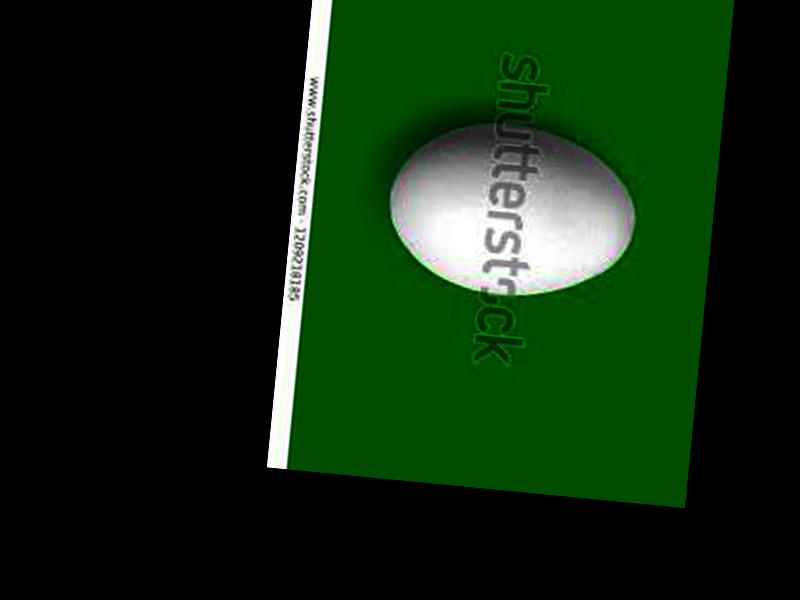Eggs: (383, 112, 643, 306)
